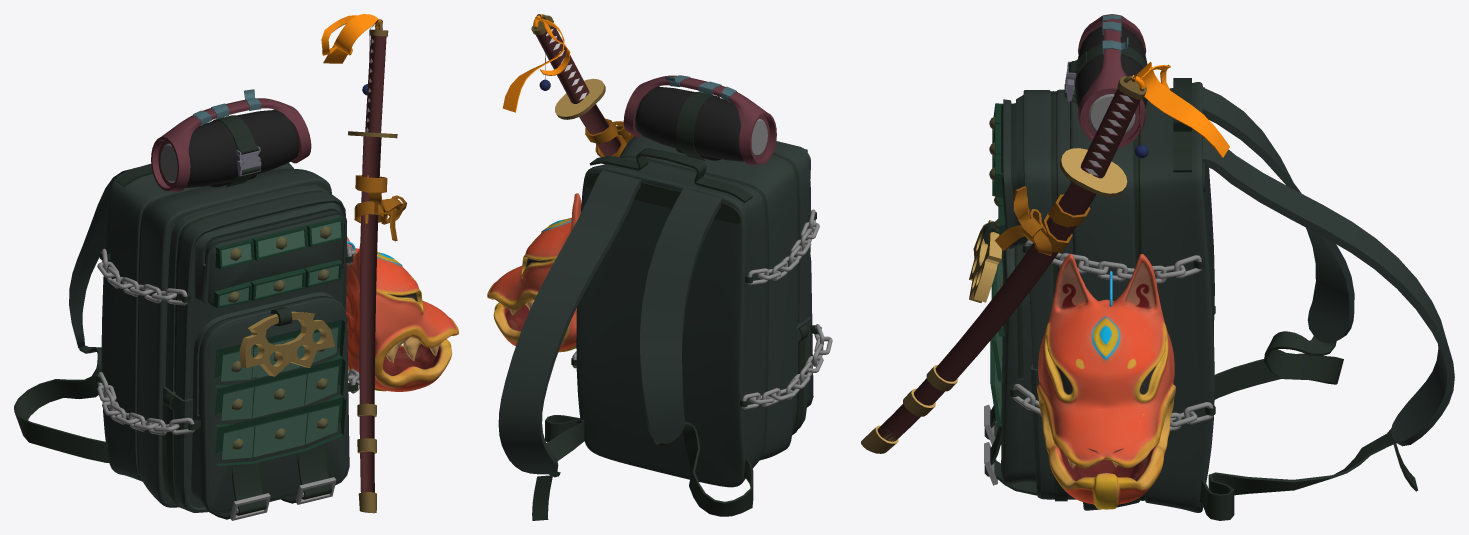
3 renders of one model, left to right at view 1: azimuth 30°, elevation 25°; view 2: azimuth 150°, elevation 25°; view 3: azimuth 270°, elevation 25°, orthographic. The views are drawn at different scales.
Visible parts, largest first — view 1: Cube, Cube.002, Cube.003, MASK.003, Cube.005, Cylinder.001, Torus.008, Cube.013, Cube.014, Plane.008, Circle.013, Plane.001 (+18 smaller); view 2: Cube, Plane.006, Plane.009, Cylinder.001, MASK.003, Circle.013, Cube.003, Plane.008, Cube.029, Torus.007, Plane.007, Cube.031 (+10 smaller); view 3: MASK.003, Cube, Plane.006, Cube.003, Torus.008, Plane.009, Cube.002, Plane.008, Circle.013, Plane.007, Torus.007, Cube.005 (+9 smaller).
Boxes of the visible parts, box(x1,y1,x2,y2) form: Cube: box(101, 162, 331, 507); Cube.002: box(191, 292, 349, 513); Cube.003: box(165, 185, 346, 400); MASK.003: box(346, 236, 458, 391); Cube.005: box(195, 202, 346, 309); Cylinder.001: box(185, 110, 299, 187); Torus.008: box(359, 136, 381, 492); Cube.013: box(215, 397, 346, 465); Cube.014: box(215, 358, 345, 426); Plane.008: box(14, 345, 109, 462); Circle.013: box(151, 98, 311, 191); Plane.001: box(239, 311, 334, 376); Cube: box(576, 136, 797, 487); Plane.006: box(498, 170, 641, 474); Plane.009: box(640, 187, 722, 443); Cylinder.001: box(635, 86, 743, 161); MASK.003: box(487, 193, 581, 352); Circle.013: box(623, 75, 776, 164); Cube.003: box(771, 142, 810, 326); Plane.008: box(654, 421, 753, 516); Cube.029: box(589, 148, 752, 202); Torus.007: box(531, 15, 589, 103); Plane.007: box(545, 415, 584, 477); Cube.031: box(584, 172, 740, 223); MASK.003: box(1036, 254, 1175, 509); Cube: box(1070, 82, 1214, 512); Plane.006: box(1202, 137, 1454, 446); Cube.003: box(1023, 89, 1073, 368); Torus.008: box(878, 182, 1096, 441); Plane.009: box(1202, 87, 1354, 343); Cube.002: box(1001, 246, 1036, 485); Plane.008: box(1214, 331, 1343, 399); Circle.013: box(1078, 14, 1146, 147); Plane.007: box(1199, 428, 1397, 520); Torus.007: box(1080, 76, 1146, 178); Cube.005: box(1001, 95, 1026, 248).
Size of the model in its own units: 3.67 by 4.3 by 4.69.
Materials: 23 (1 with a texture image).
